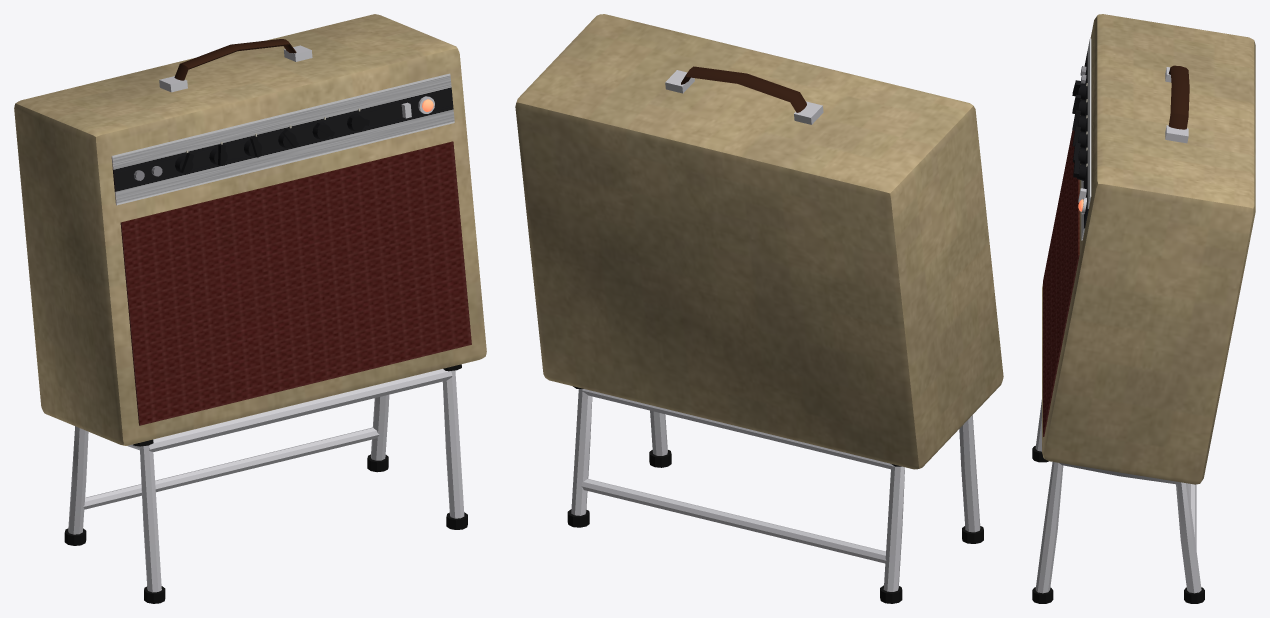
File: combo-amp.glb
3 renders of one model, left to right at view 1: azimuth 30°, elevation 25°; view 2: azimuth 150°, elevation 25°; view 3: azimuth 270°, elevation 25°, orthographic. The views are drawn at different scales.
Visible parts, largest first — view 1: combo-amp; view 2: combo-amp; view 3: combo-amp.
Boxes of the visible parts, x1,y1,x2,y2 form: combo-amp: (14, 14, 486, 603); combo-amp: (515, 14, 1003, 603); combo-amp: (1032, 14, 1255, 603).
Bounding box in the file's own units: 0.62 × 0.7485 × 0.3405.
Materials: 2 (1 with a texture image).
